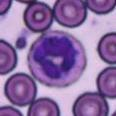N: (28, 29, 86, 88)
